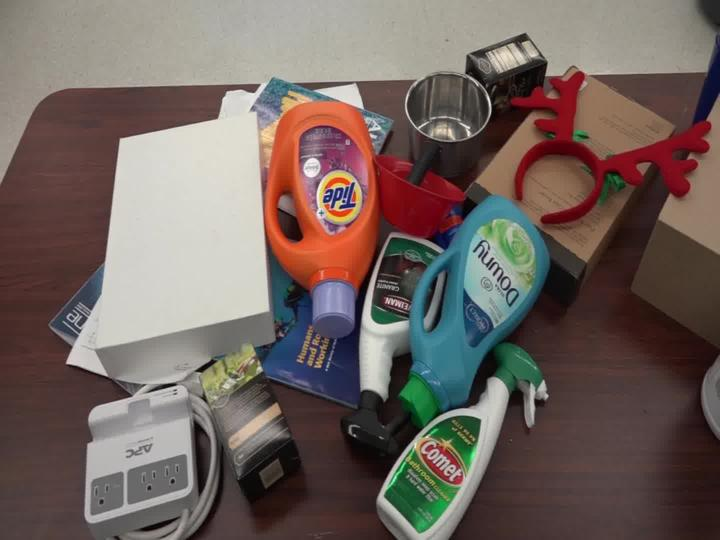tide: (244, 89, 391, 342)
